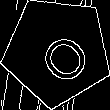O_NW: (24, 18, 89, 84)
